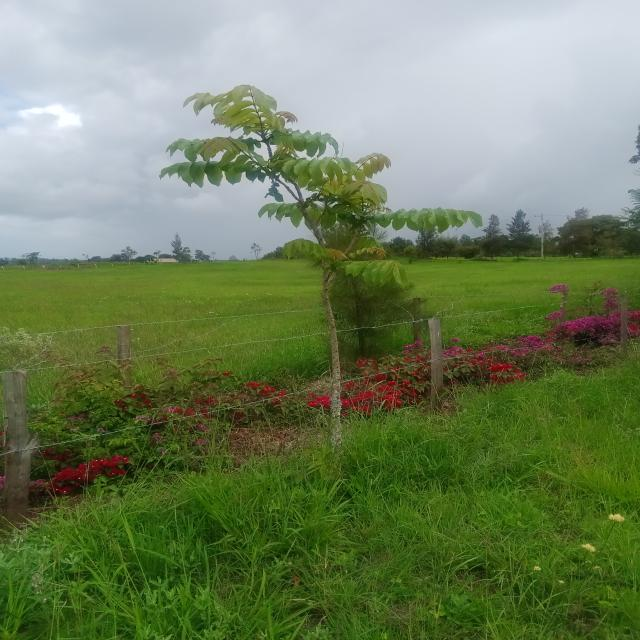Polyscias Kikuyensis: (156, 80, 476, 448)
